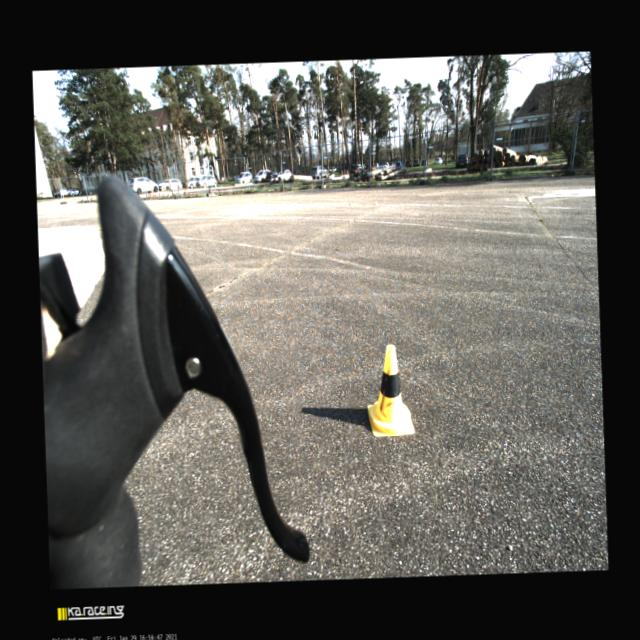yellow_cone: (364, 343, 414, 436)
